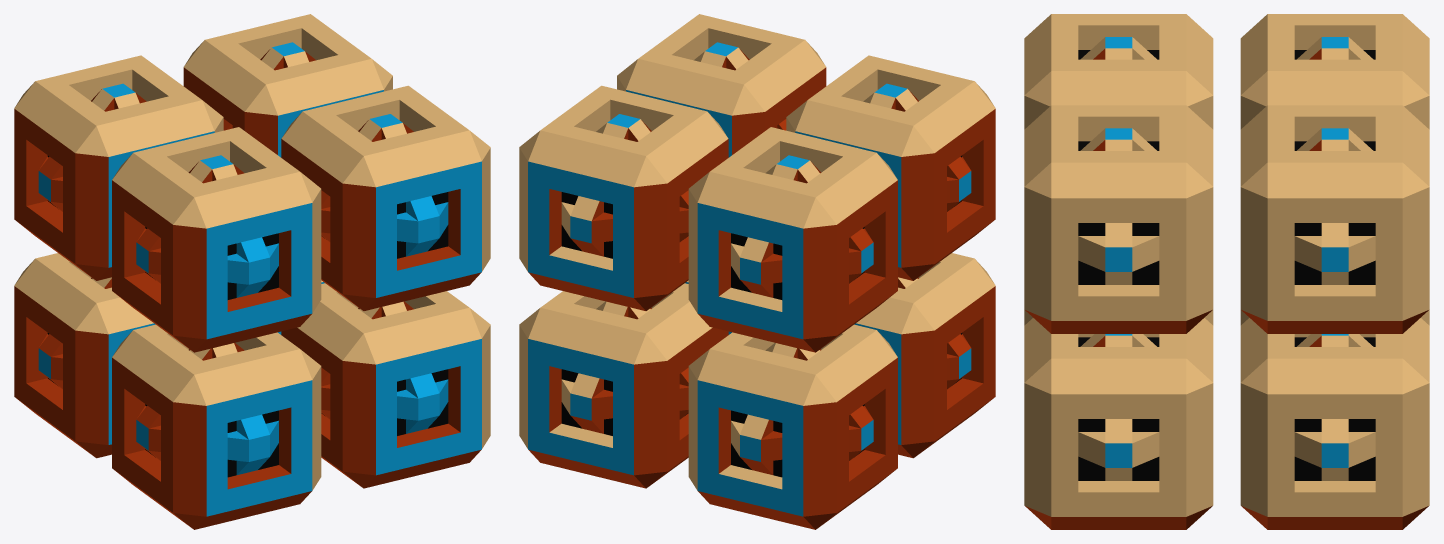
File: br-m-hall-blue.fbx
The picture shows the model from 3 angles, left to right: view 1: azimuth 30°, elevation 25°; view 2: azimuth 150°, elevation 25°; view 3: azimuth 270°, elevation 25°; orthographic projection. The views are drawn at different scales.
Visible parts, largest first — view 1: cube4, cube7, cube5, cube6, cube2, cube1, cube3; view 2: cube2, cube1, cube3, cube, cube4, cube7, cube5; view 3: cube5, cube3, cube6, cube, cube4, cube2.
Part boxes in pixels (x1=…): cube4: x1=112, y1=127, x2=321, y2=352; cube7: x1=112, y1=324, x2=321, y2=529; cube5: x1=281, y1=85, x2=490, y2=310; cube6: x1=281, y1=283, x2=490, y2=488; cube2: x1=14, y1=55, x2=223, y2=280; cube1: x1=14, y1=253, x2=155, y2=458; cube3: x1=183, y1=14, x2=392, y2=157; cube2: x1=688, y1=127, x2=897, y2=352; cube1: x1=688, y1=324, x2=897, y2=529; cube3: x1=519, y1=85, x2=728, y2=310; cube: x1=519, y1=283, x2=728, y2=488; cube4: x1=786, y1=55, x2=995, y2=280; cube7: x1=854, y1=253, x2=995, y2=458; cube5: x1=617, y1=14, x2=826, y2=157; cube5: x1=1024, y1=105, x2=1213, y2=333; cube3: x1=1240, y1=105, x2=1429, y2=333; cube6: x1=1024, y1=318, x2=1213, y2=529; cube: x1=1240, y1=318, x2=1429, y2=529; cube4: x1=1024, y1=14, x2=1213, y2=129; cube2: x1=1240, y1=14, x2=1429, y2=129.
Bounding box in the file's own units: 0.9375 × 0.9375 × 0.9375.
